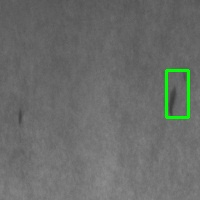inclusion: (166, 70, 188, 117), (14, 105, 25, 133)
